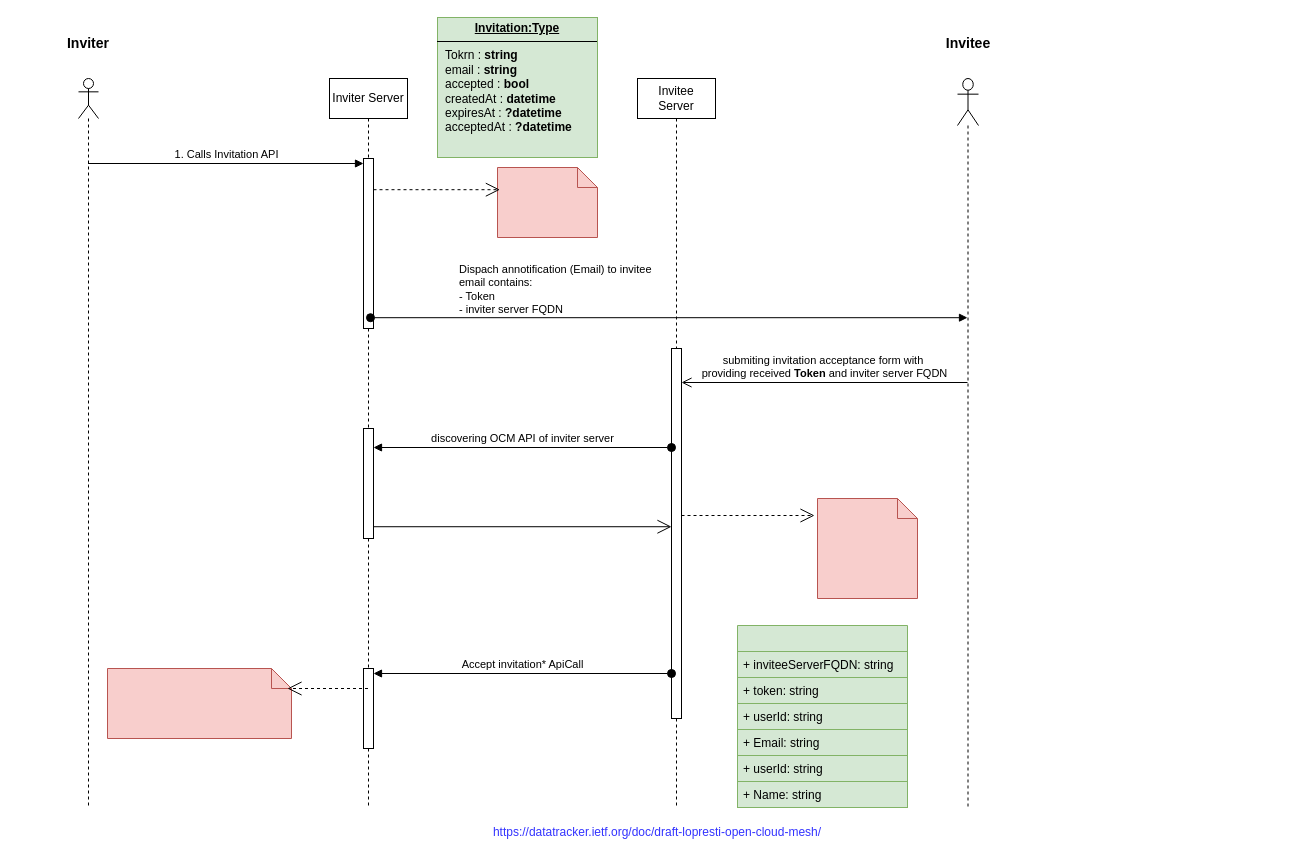
The diagram is 1314 pixels wide and 865 high, and some of its shapes have lost their labels. Here are the shapes that lost their labels. From the top down, the box of each, then its label:
(496, 166, 598, 238): Creates an invitation* recorrd in databse
(816, 498, 918, 598): Adds FQDN of inviter server as a trusted servers
(106, 668, 292, 738): - mark invitation record as accepted - add invitee in contacts table
(736, 624, 908, 808): AcceptInvitationDto
